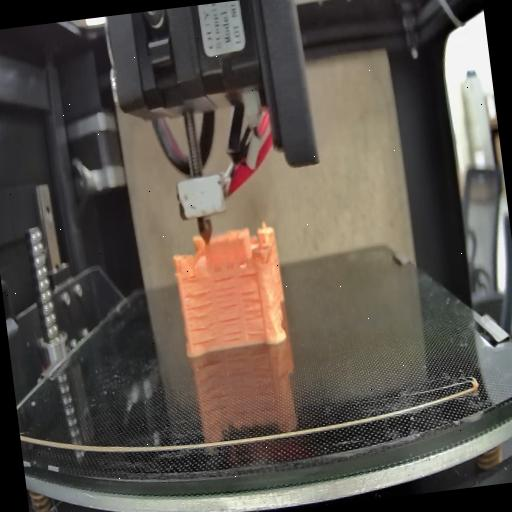cracks: (184, 280, 218, 348), (214, 278, 246, 344), (238, 273, 265, 339)
